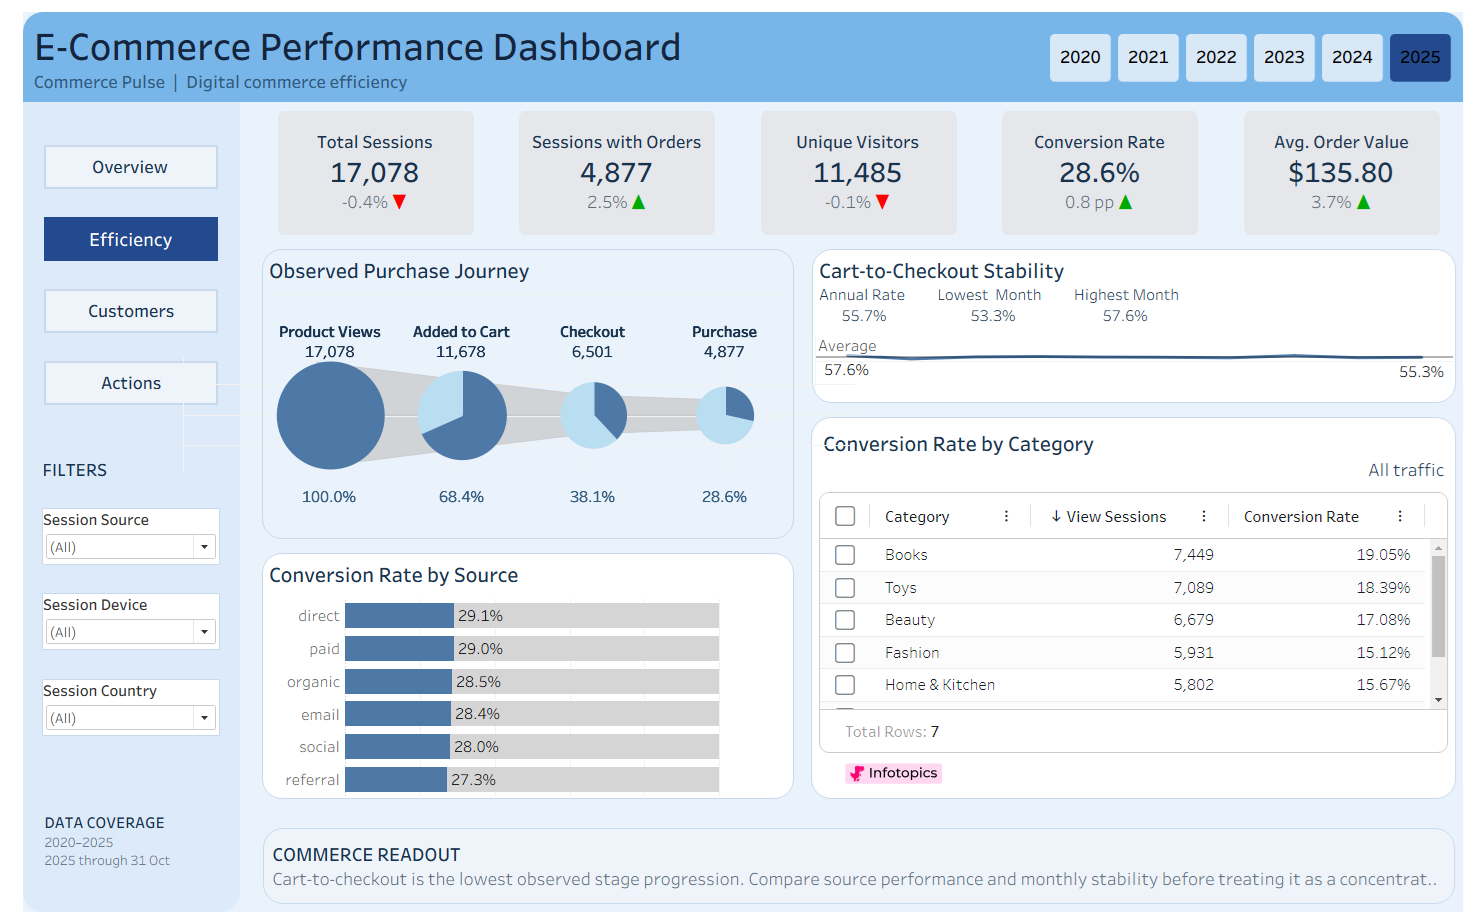

What the dashboard file says about the page in this screenshot:
{"tool":"tableau","page":{"name":"Page 2 - Commerce Efficiency","canvas":[1440,900],"ordinal":1},"visuals":[{"type":"text","box":[0,0,989,90]},{"type":"blank","box":[989,0,451,90]},{"type":"worksheet","title":"Selector Year","mark":"Shape","cols":["Calculation_0412627662340116"],"box":[1022.4,9,410.4,72]},{"type":"blank","box":[0,90,217.1,810]},{"type":"worksheet","title":"Page 2 KPIs","mark":"Text","cols":["Calculation_220201","Calculation_220202","Calculation_220203","Calculation_220204","Calculation_220205"],"box":[231.6,99,1208.4,124]},{"type":"dashboard-object","box":[14.5,126,188.1,58.5]},{"type":"dashboard-object","box":[14.5,198,188.1,58.5]},{"type":"worksheet","title":"Cart-to-Checkout Rate by Month","mark":"Line","rows":["Calculation_221501"],"cols":["date_day"],"box":[782,229.6,658,168.4]},{"type":"worksheet","title":"Observed Purchase Journey","mark":"Automatic","rows":["Calculation_1049245516804097","Calculation_221107"],"cols":["stage"],"box":[232,230,546,304]},{"type":"dashboard-object","box":[14.5,270,188.1,58.5]},{"type":"dashboard-object","box":[14.5,342,188.1,58.5]},{"type":"worksheet","title":"Observed Purchase Journey Path","mark":"Automatic","rows":["stage_sessions_display","Calculation_221120"],"cols":["Calculation_221119"],"box":[160,345,672,115]},{"type":"worksheet","title":"Conversion Rate by Category","mark":"VizExtension","box":[781,398,659,396.4]},{"type":"text","box":[14.5,441,188.1,31.5]},{"type":"filter","title":"Observed Purchase Journey","param":"[federated.0ncwajr1cstery1fny6b605ttnuq].[none:session_source:nk]","box":[14.5,490.5,188.1,67.5]},{"type":"worksheet","title":"Conversion Rate by Source","mark":"Bar","rows":["session_source"],"cols":["Calculation_221301","Calculation_0895863627190275"],"box":[231.6,534,546.5,260.4]},{"type":"filter","title":"Observed Purchase Journey","param":"[federated.0ncwajr1cstery1fny6b605ttnuq].[none:session_device:nk]","box":[14.5,576,188.1,67.5]},{"type":"filter","title":"Observed Purchase Journey","param":"[federated.0ncwajr1cstery1fny6b605ttnuq].[none:session_country:nk]","box":[14.5,661.5,188.1,67.5]},{"type":"text","box":[14.5,787.5,188.1,81]},{"type":"text","box":[231.6,808.2,1208.4,91.8]}]}

Visuals, with their boxes in screenshot pixels (x1, y1, x2, y2), scaled from the page's 1440x900 canvas onto the 1482x924 screenshot:
text: Rect(0, 0, 1018, 92)
blank: Rect(1018, 0, 1481, 92)
"Selector Year" worksheet (Shape marks): Rect(1052, 9, 1475, 83)
blank: Rect(0, 92, 223, 923)
"Page 2 KPIs" worksheet (Text marks): Rect(238, 102, 1481, 229)
dashboard-object: Rect(15, 129, 209, 189)
dashboard-object: Rect(15, 203, 209, 263)
"Cart-to-Checkout Rate by Month" worksheet (Line marks): Rect(805, 236, 1481, 409)
"Observed Purchase Journey" worksheet: Rect(239, 236, 801, 548)
dashboard-object: Rect(15, 277, 209, 337)
dashboard-object: Rect(15, 351, 209, 411)
"Observed Purchase Journey Path" worksheet: Rect(165, 354, 856, 472)
"Conversion Rate by Category" worksheet (VizExtension marks): Rect(804, 409, 1481, 816)
text: Rect(15, 453, 209, 485)
"Observed Purchase Journey" filter: Rect(15, 504, 209, 573)
"Conversion Rate by Source" worksheet (Bar marks): Rect(238, 548, 801, 816)
"Observed Purchase Journey" filter: Rect(15, 591, 209, 661)
"Observed Purchase Journey" filter: Rect(15, 679, 209, 748)
text: Rect(15, 808, 209, 892)
text: Rect(238, 830, 1481, 923)
